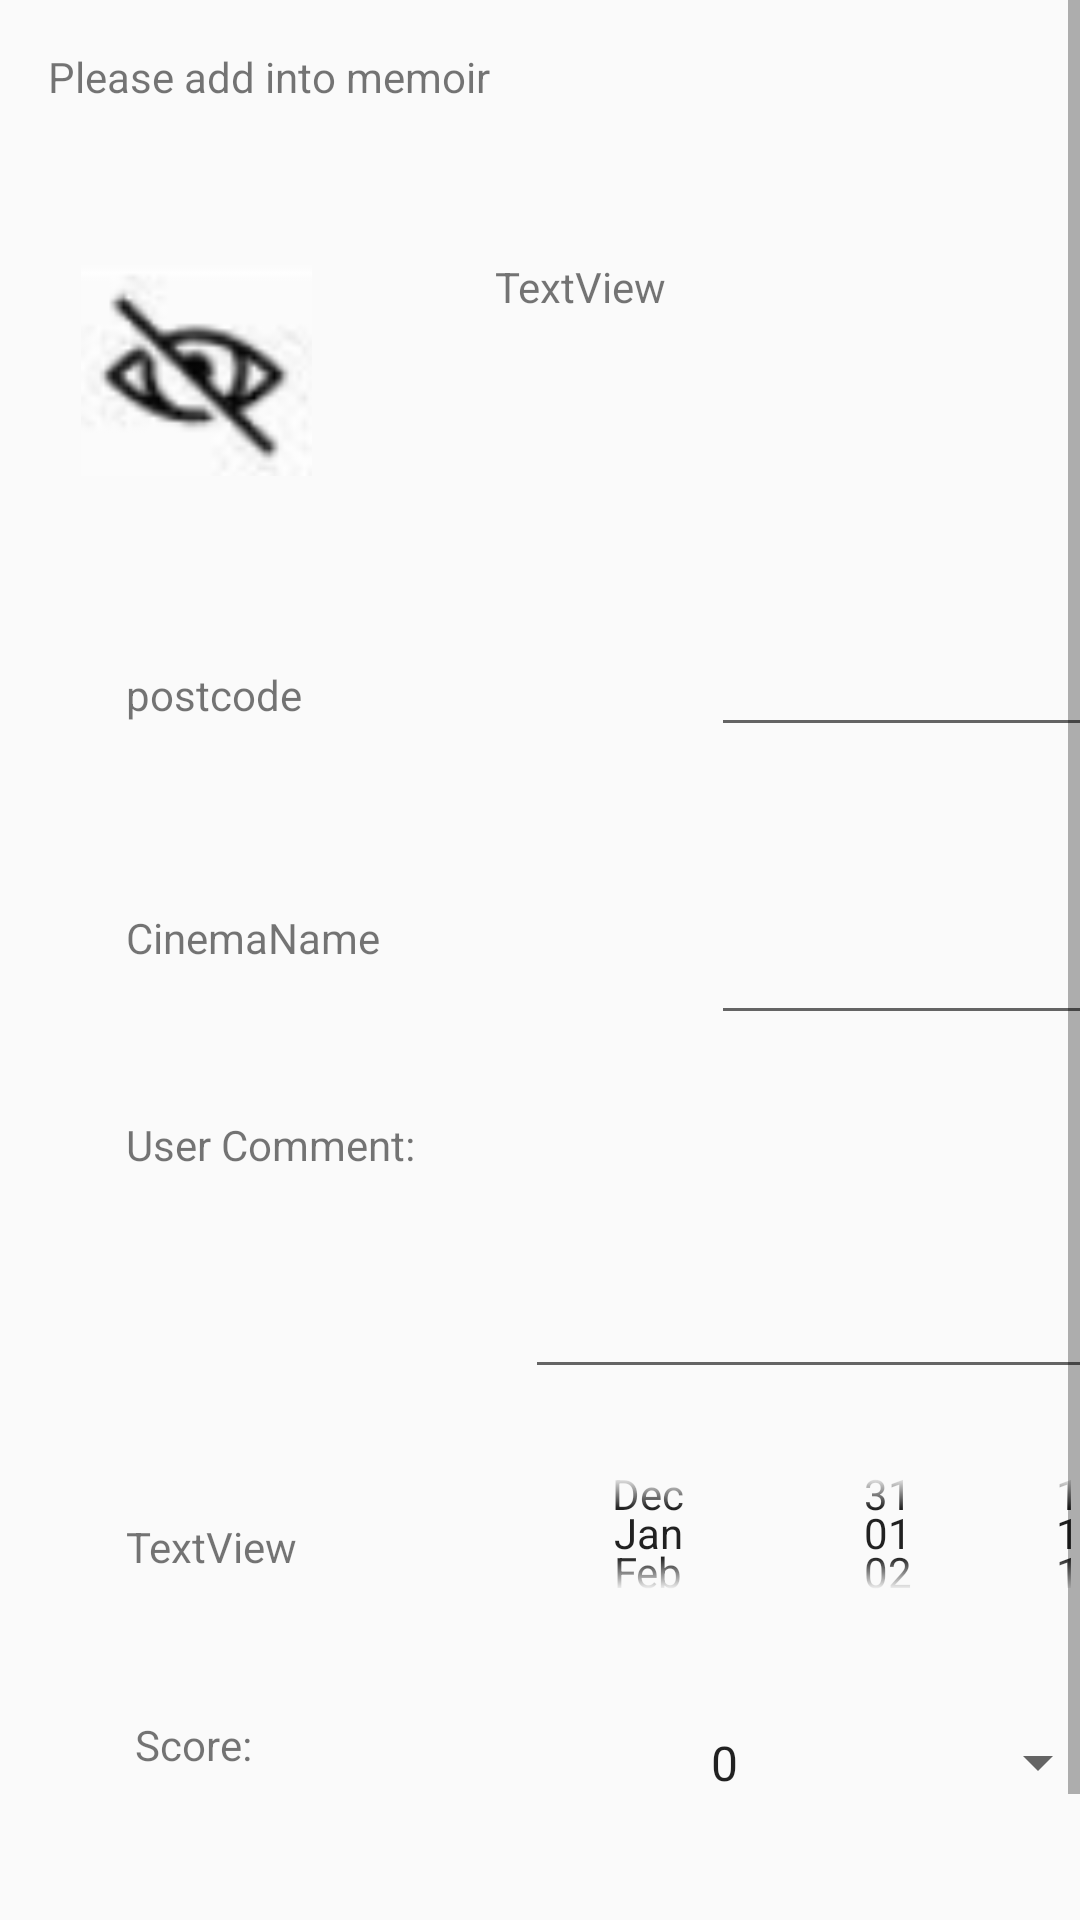

Point at icon controls on the screen. Image size 1080w x 1920h, points as (x=x, y=y).
hide pwd: (x=195, y=375)
